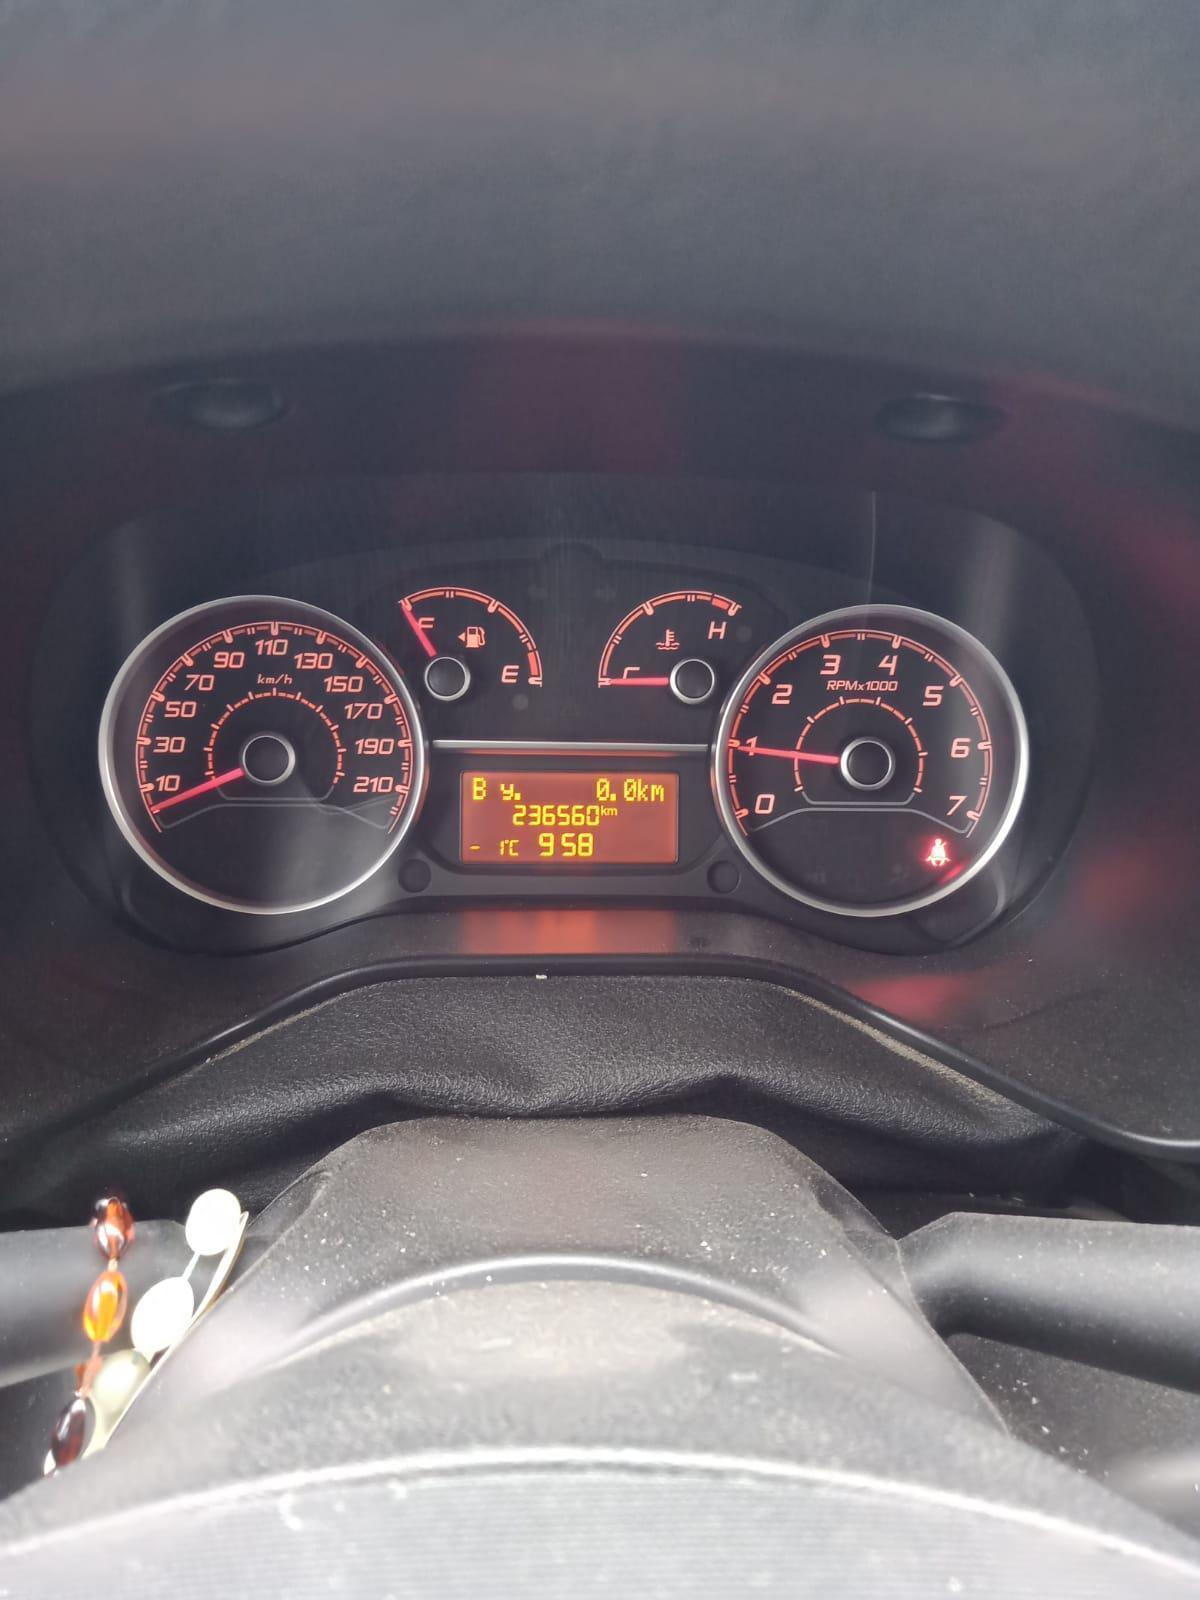,: (610, 792, 616, 803), (513, 792, 521, 800)
0: (621, 779, 637, 803), (585, 804, 600, 826), (595, 779, 610, 801)
1: (498, 839, 505, 855)
2: (511, 804, 526, 825)
3: (526, 804, 541, 825)
5: (560, 831, 576, 857), (556, 804, 571, 826)
6: (541, 804, 556, 825), (571, 805, 585, 826)
8: (576, 831, 594, 857)
9: (538, 831, 555, 855)
X: (471, 776, 487, 801), (649, 784, 664, 803), (499, 782, 514, 801), (637, 779, 648, 803), (508, 839, 521, 855), (600, 804, 608, 816), (608, 808, 616, 815)
odometer: (458, 767, 681, 868)
